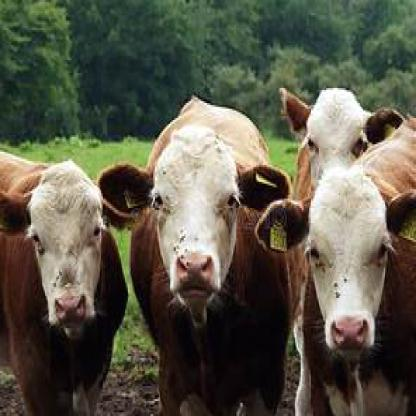cow: (98, 99, 291, 414), (251, 172, 416, 415), (1, 161, 128, 414)
